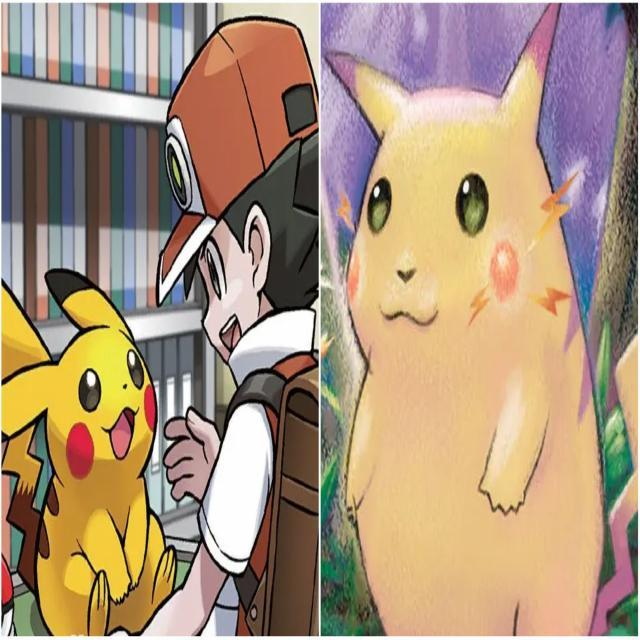Pikachu: (319, 26, 587, 476), (14, 226, 230, 557)
